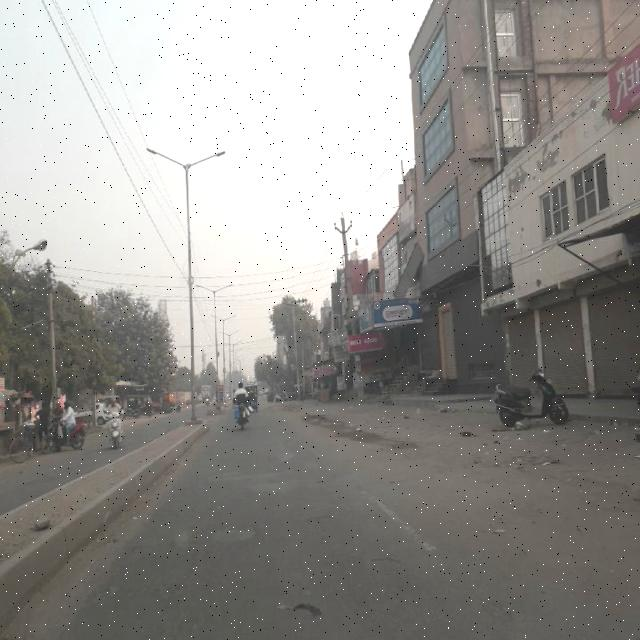D40: (203, 444, 311, 498), (207, 517, 264, 555), (481, 601, 523, 627), (298, 505, 339, 531), (366, 546, 406, 572)
D44: (354, 484, 442, 552)
